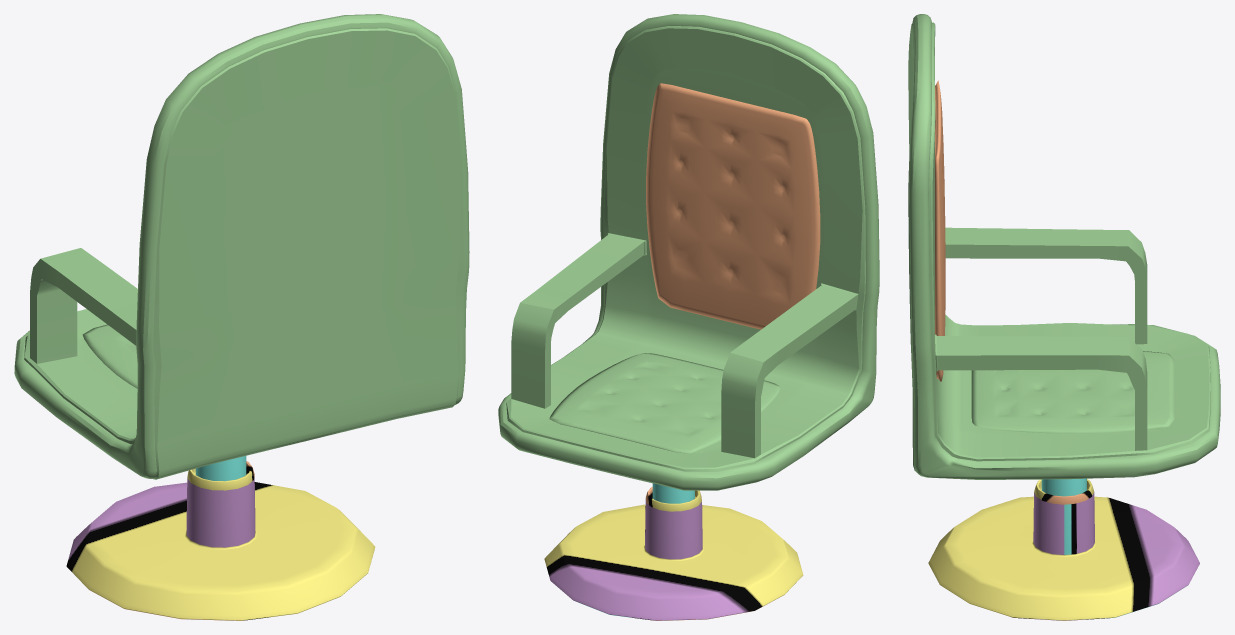
Rendered from SecruityChair.fbx.
3 renders of one model, left to right at view 1: azimuth 30°, elevation 25°; view 2: azimuth 150°, elevation 25°; view 3: azimuth 270°, elevation 25°, orthographic. The views are drawn at different scales.
Parts seen in each view (by area): view 1: SecurityChair01_Modeling_V001:SecurityChair01_Chair; view 2: SecurityChair01_Modeling_V001:SecurityChair01_Chair; view 3: SecurityChair01_Modeling_V001:SecurityChair01_Chair.
Boxes of the visible parts, x1,y1,x2,y2 form: SecurityChair01_Modeling_V001:SecurityChair01_Chair: (14,14,469,620); SecurityChair01_Modeling_V001:SecurityChair01_Chair: (498,14,879,620); SecurityChair01_Modeling_V001:SecurityChair01_Chair: (908,14,1220,620).
Bounding box in the file's own units: 80.88 × 139 × 75.36.
Materials: 1 (1 with a texture image).
